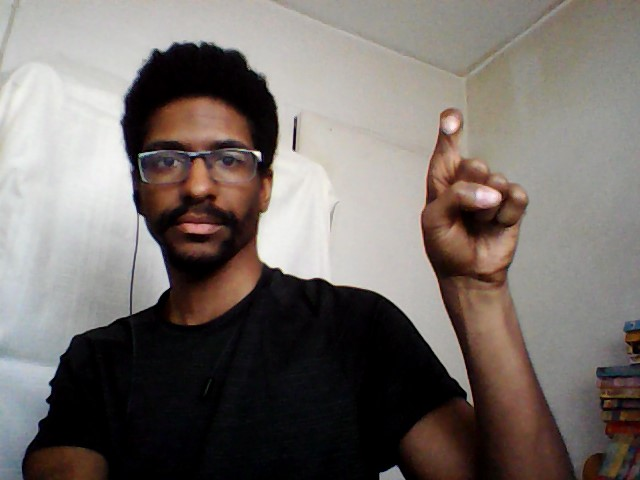x: (416, 101, 532, 289)
